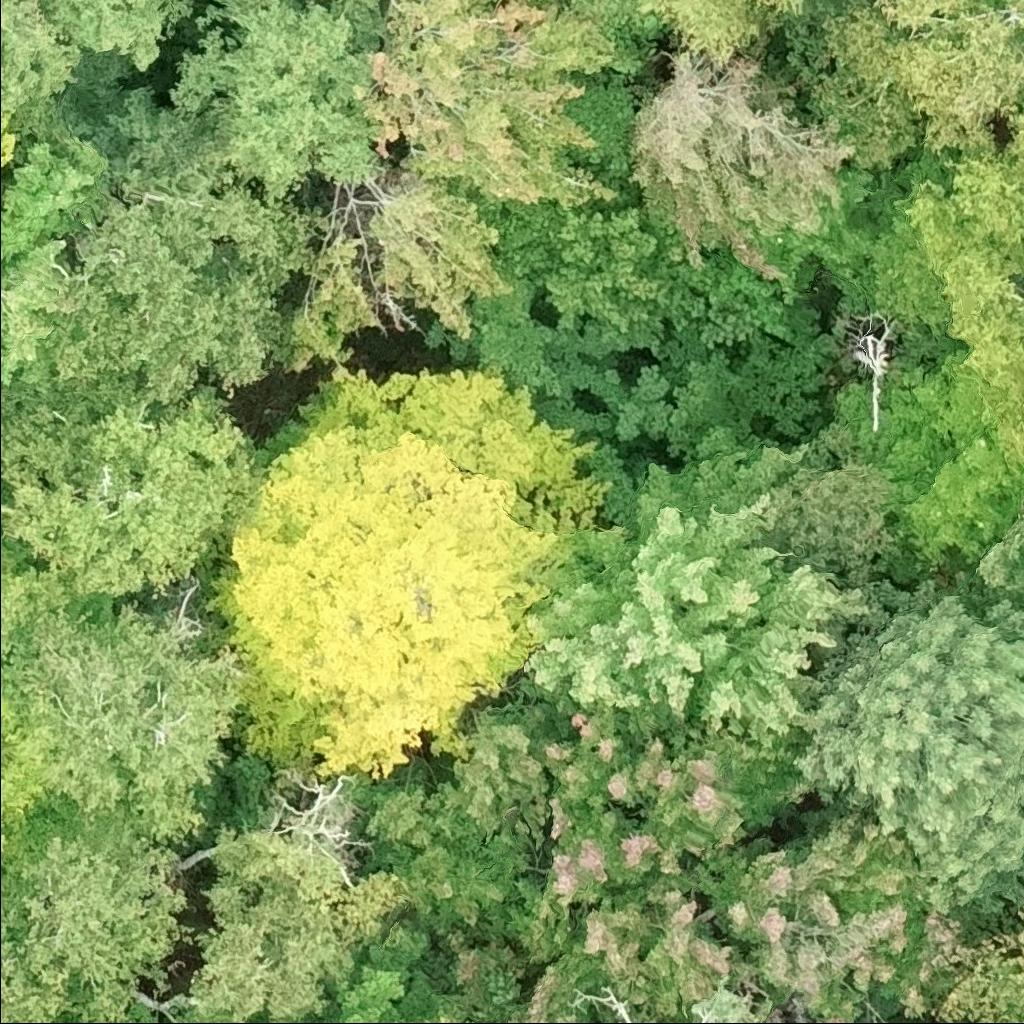crown: (204, 360, 614, 783), (524, 439, 875, 737), (788, 566, 1023, 924), (504, 702, 814, 964), (694, 802, 1022, 1023), (0, 568, 249, 845), (0, 793, 189, 1023), (189, 824, 404, 1023), (499, 863, 760, 1023), (358, 777, 545, 948), (437, 677, 571, 852), (932, 907, 1023, 1023), (973, 501, 1023, 602), (0, 561, 25, 643), (397, 1010, 468, 1023), (0, 690, 18, 735), (0, 976, 13, 1023), (493, 1023, 497, 1023)
